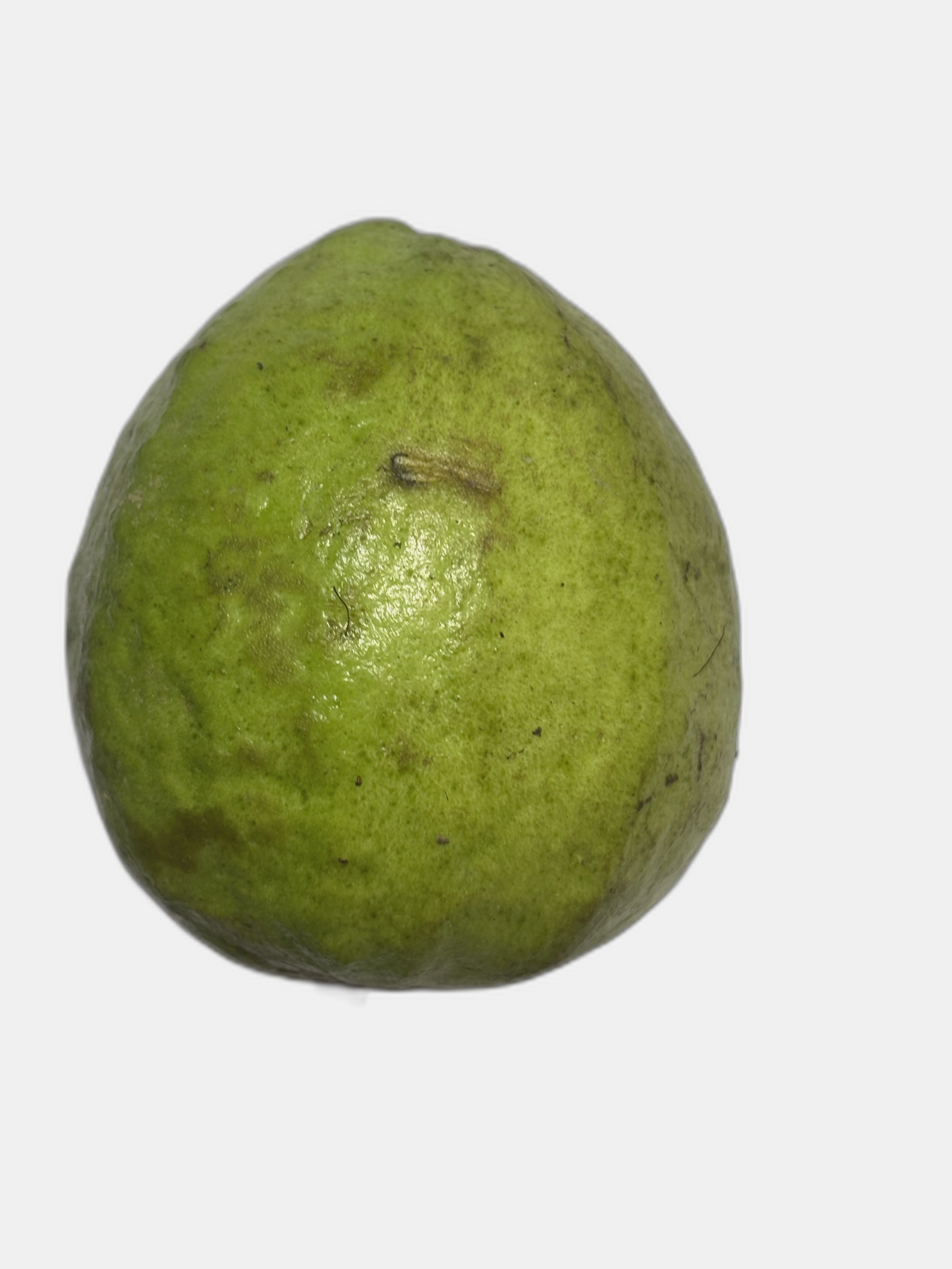guava: (141, 145, 902, 984)
